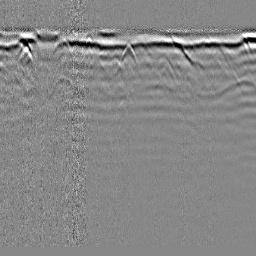cavity: (118, 43, 139, 64)
